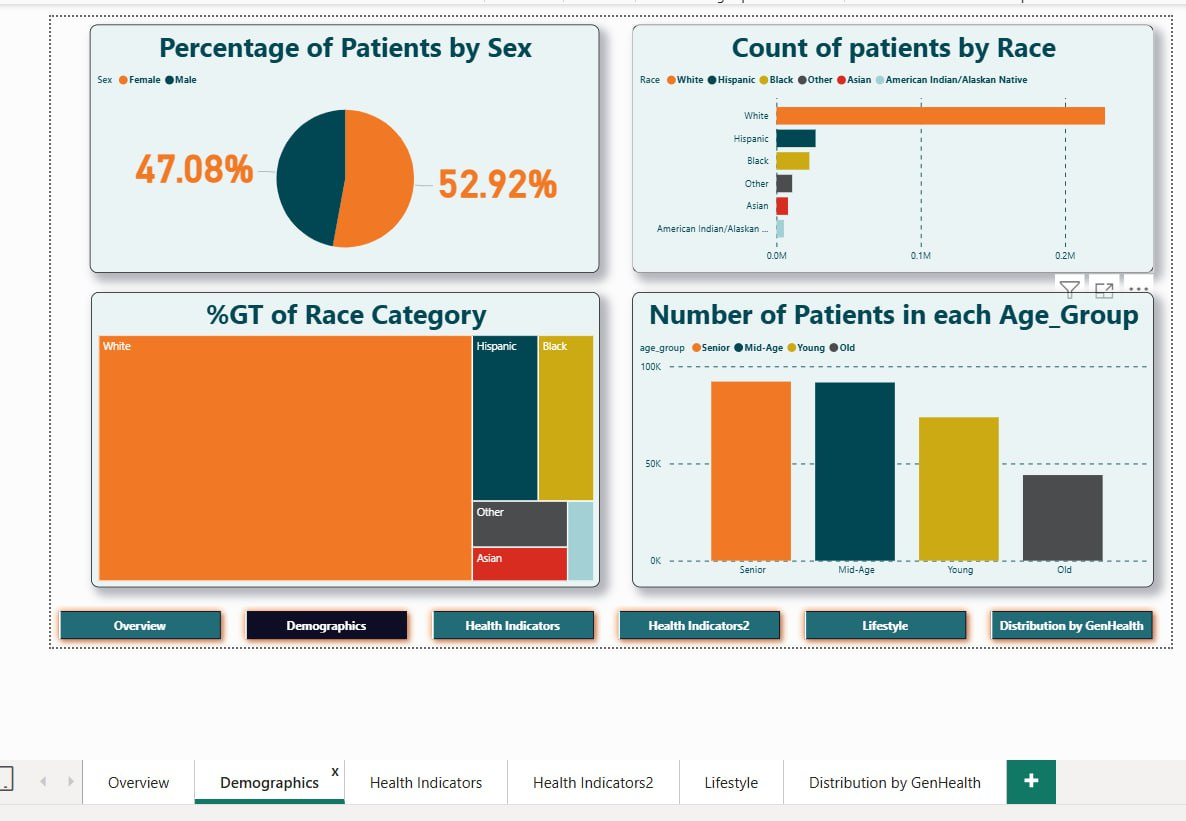

The page's visual inventory and layout, read from the dashboard file:
{"tool":"powerbi","page":{"name":"Demographics","canvas":[1280,720],"ordinal":1},"visuals":[{"type":"pageNavigator","box":[0,670,1271.2,50],"z":0},{"type":"pieChart","title":"Percentage of Patients by Sex","fields":{"Y":["CountNonNull(heart_disease_transformed.patient_Id)"],"Category":["heart_disease_transformed.Sex"]},"box":[45,8.8,582.5,283.8],"z":1000},{"type":"barChart","title":"Count of patients by Race ","fields":{"Category":["heart_disease_transformed.Race"],"Y":["CountNonNull(heart_disease_transformed.Race)"],"Series":["heart_disease_transformed.Race"]},"box":[665,8.8,596.2,283.8],"z":2000},{"type":"treemap","title":"%GT of Race Category","fields":{"Group":["heart_disease_transformed.Race"],"Values":["CountNonNull(heart_disease_transformed.Race)"]},"box":[45.3,314.2,581.8,337.6],"z":3000},{"type":"columnChart","title":"Number of Patients in each Age_Group","fields":{"Y":["CountNonNull(heart_disease_transformed.patient_Id)"],"Category":["heart_disease_transformed.age_group"],"Series":["heart_disease_transformed.age_group"]},"box":[665,313.8,596.2,337.5],"z":4000}]}

Visuals, with their boxes on the page's 1280x720 design canvas (x1, y1, x2, y2). These are canvas units, not pixel positions in the 1186x821 screenshot, which may show the page scaled, cropped or inside an application window:
pageNavigator: <region>0, 670, 1271, 720</region>
"Percentage of Patients by Sex" pieChart: <region>45, 9, 628, 293</region>
"Count of patients by Race " barChart: <region>665, 9, 1261, 293</region>
"%GT of Race Category" treemap: <region>45, 314, 627, 652</region>
"Number of Patients in each Age_Group" columnChart: <region>665, 314, 1261, 651</region>
